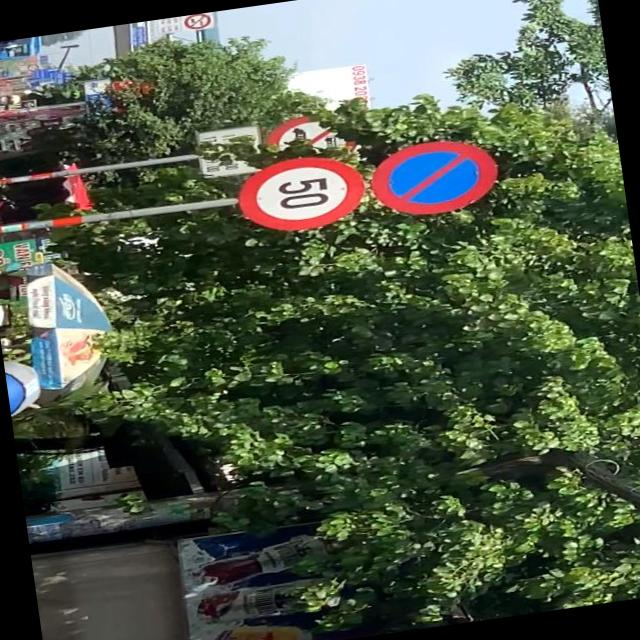P-127: (234, 150, 368, 236)
P-131a: (368, 134, 504, 220)
